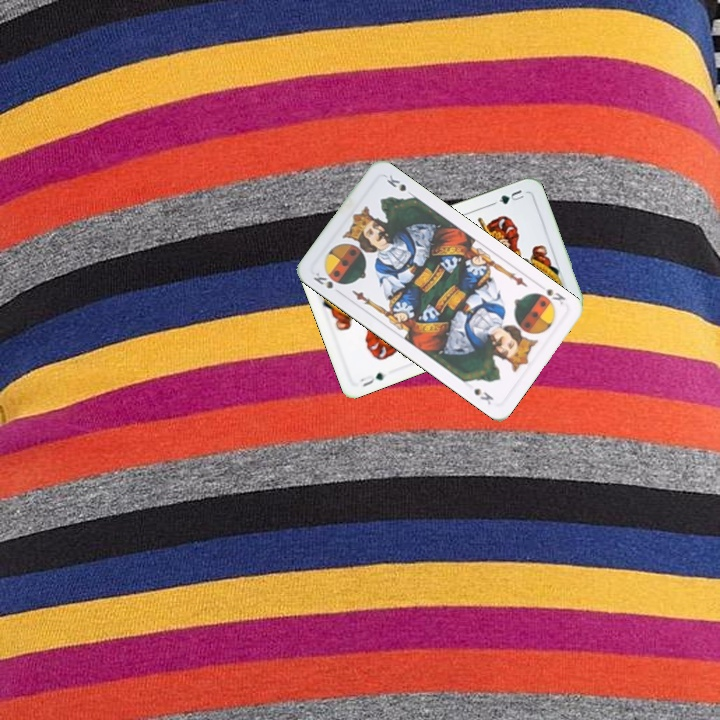GU: (489, 186, 527, 207), (356, 368, 386, 389)
SK: (309, 268, 343, 291), (542, 284, 568, 307)
